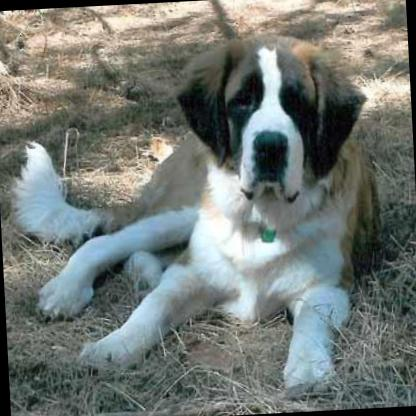Saint_Bernard: (0, 25, 387, 400)
